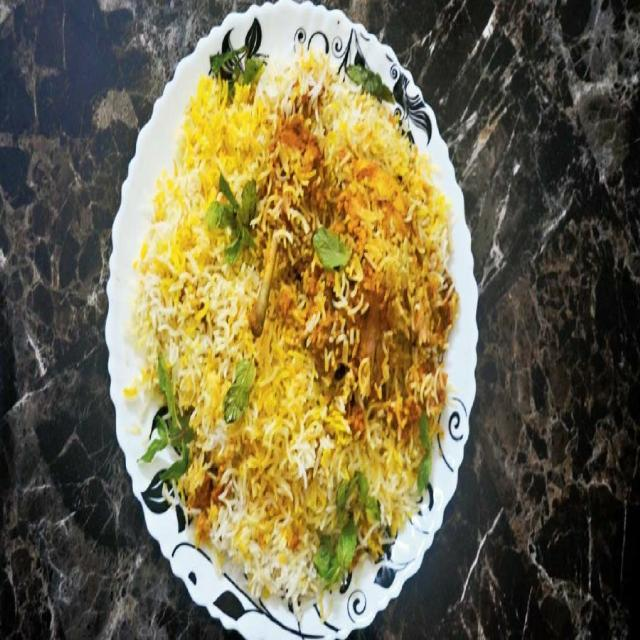Biryani: (124, 41, 460, 610)
